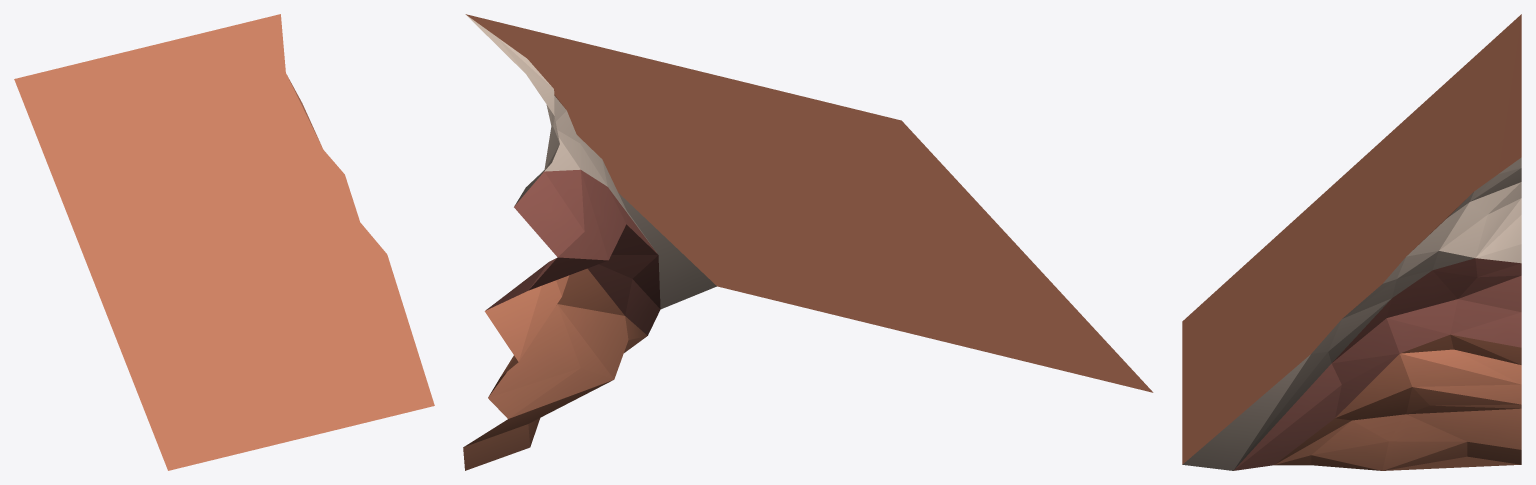
Rendered from rampr.fbx.
The picture shows the model from 3 angles, left to right: view 1: azimuth 30°, elevation 25°; view 2: azimuth 150°, elevation 25°; view 3: azimuth 270°, elevation 25°; orthographic projection. The views are drawn at different scales.
Visible parts, largest first — view 1: rampr; view 2: rampr; view 3: rampr.
Part boxes in pixels (x1,y1,x2,y2): rampr: [14, 14, 434, 470]; rampr: [463, 14, 1153, 470]; rampr: [1182, 14, 1521, 470].
Bounding box in the file's own units: 104 × 100 × 100.
